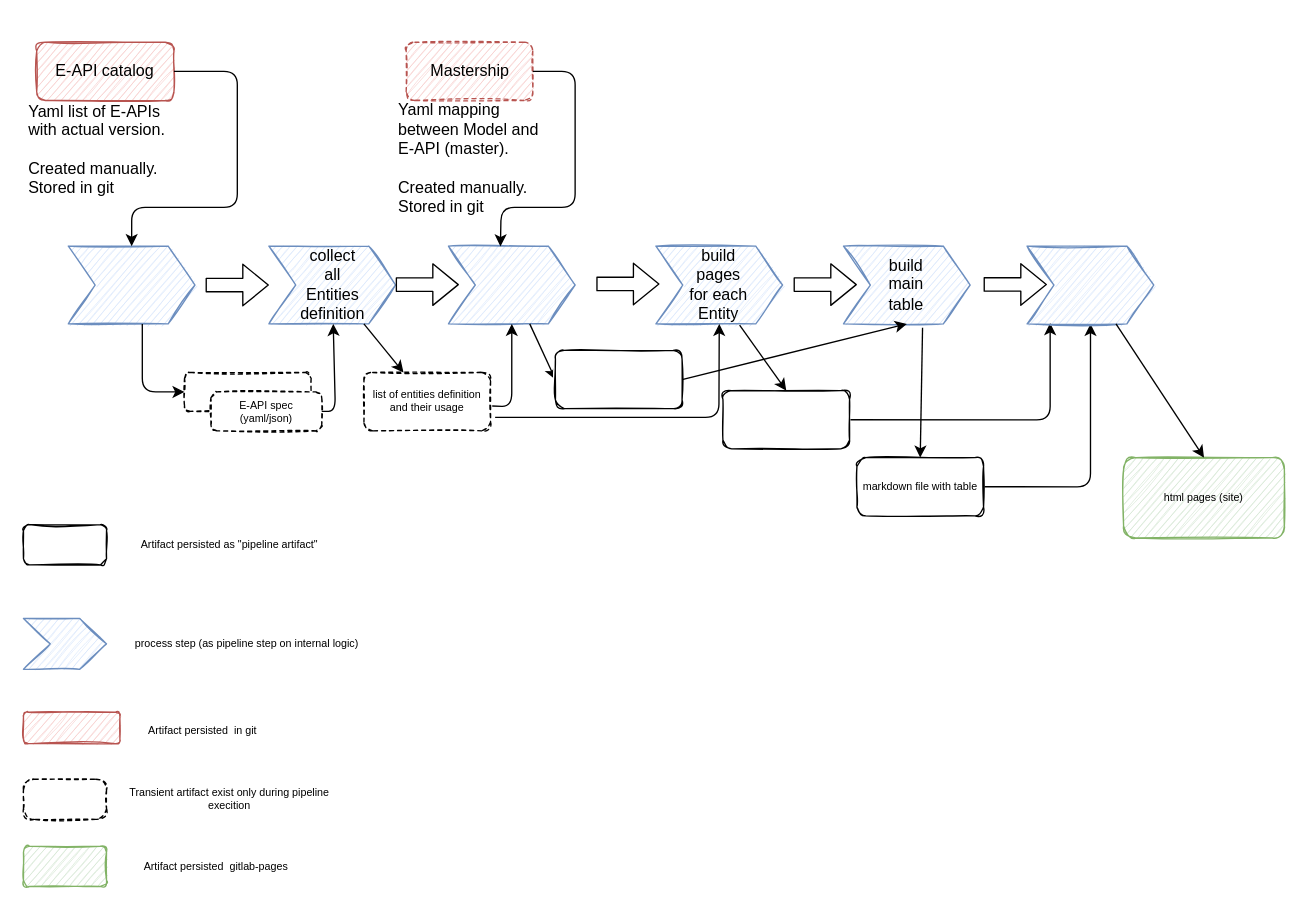
The diagram is 1308 pixels wide and 910 high, and some of its shapes have lost their labels. Here are the shapes that lost their labels. From the top down, the box of each, then its label:
(67, 245, 195, 324): load all E-API specs
(447, 245, 575, 324): look for defined master
(1026, 245, 1154, 324): publish
(554, 349, 682, 409): yaml mapping: Entities vs master and usages
(722, 389, 850, 449): markdown files with schemas
